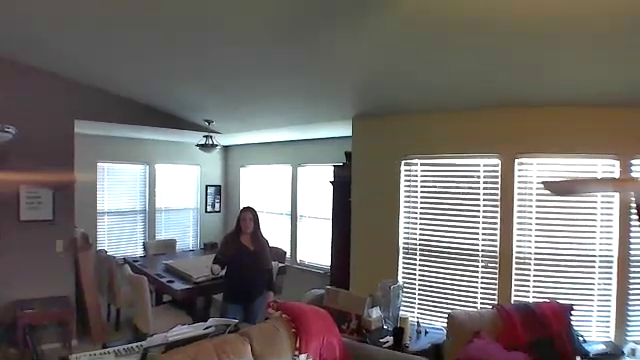land: (205, 261, 228, 279)
